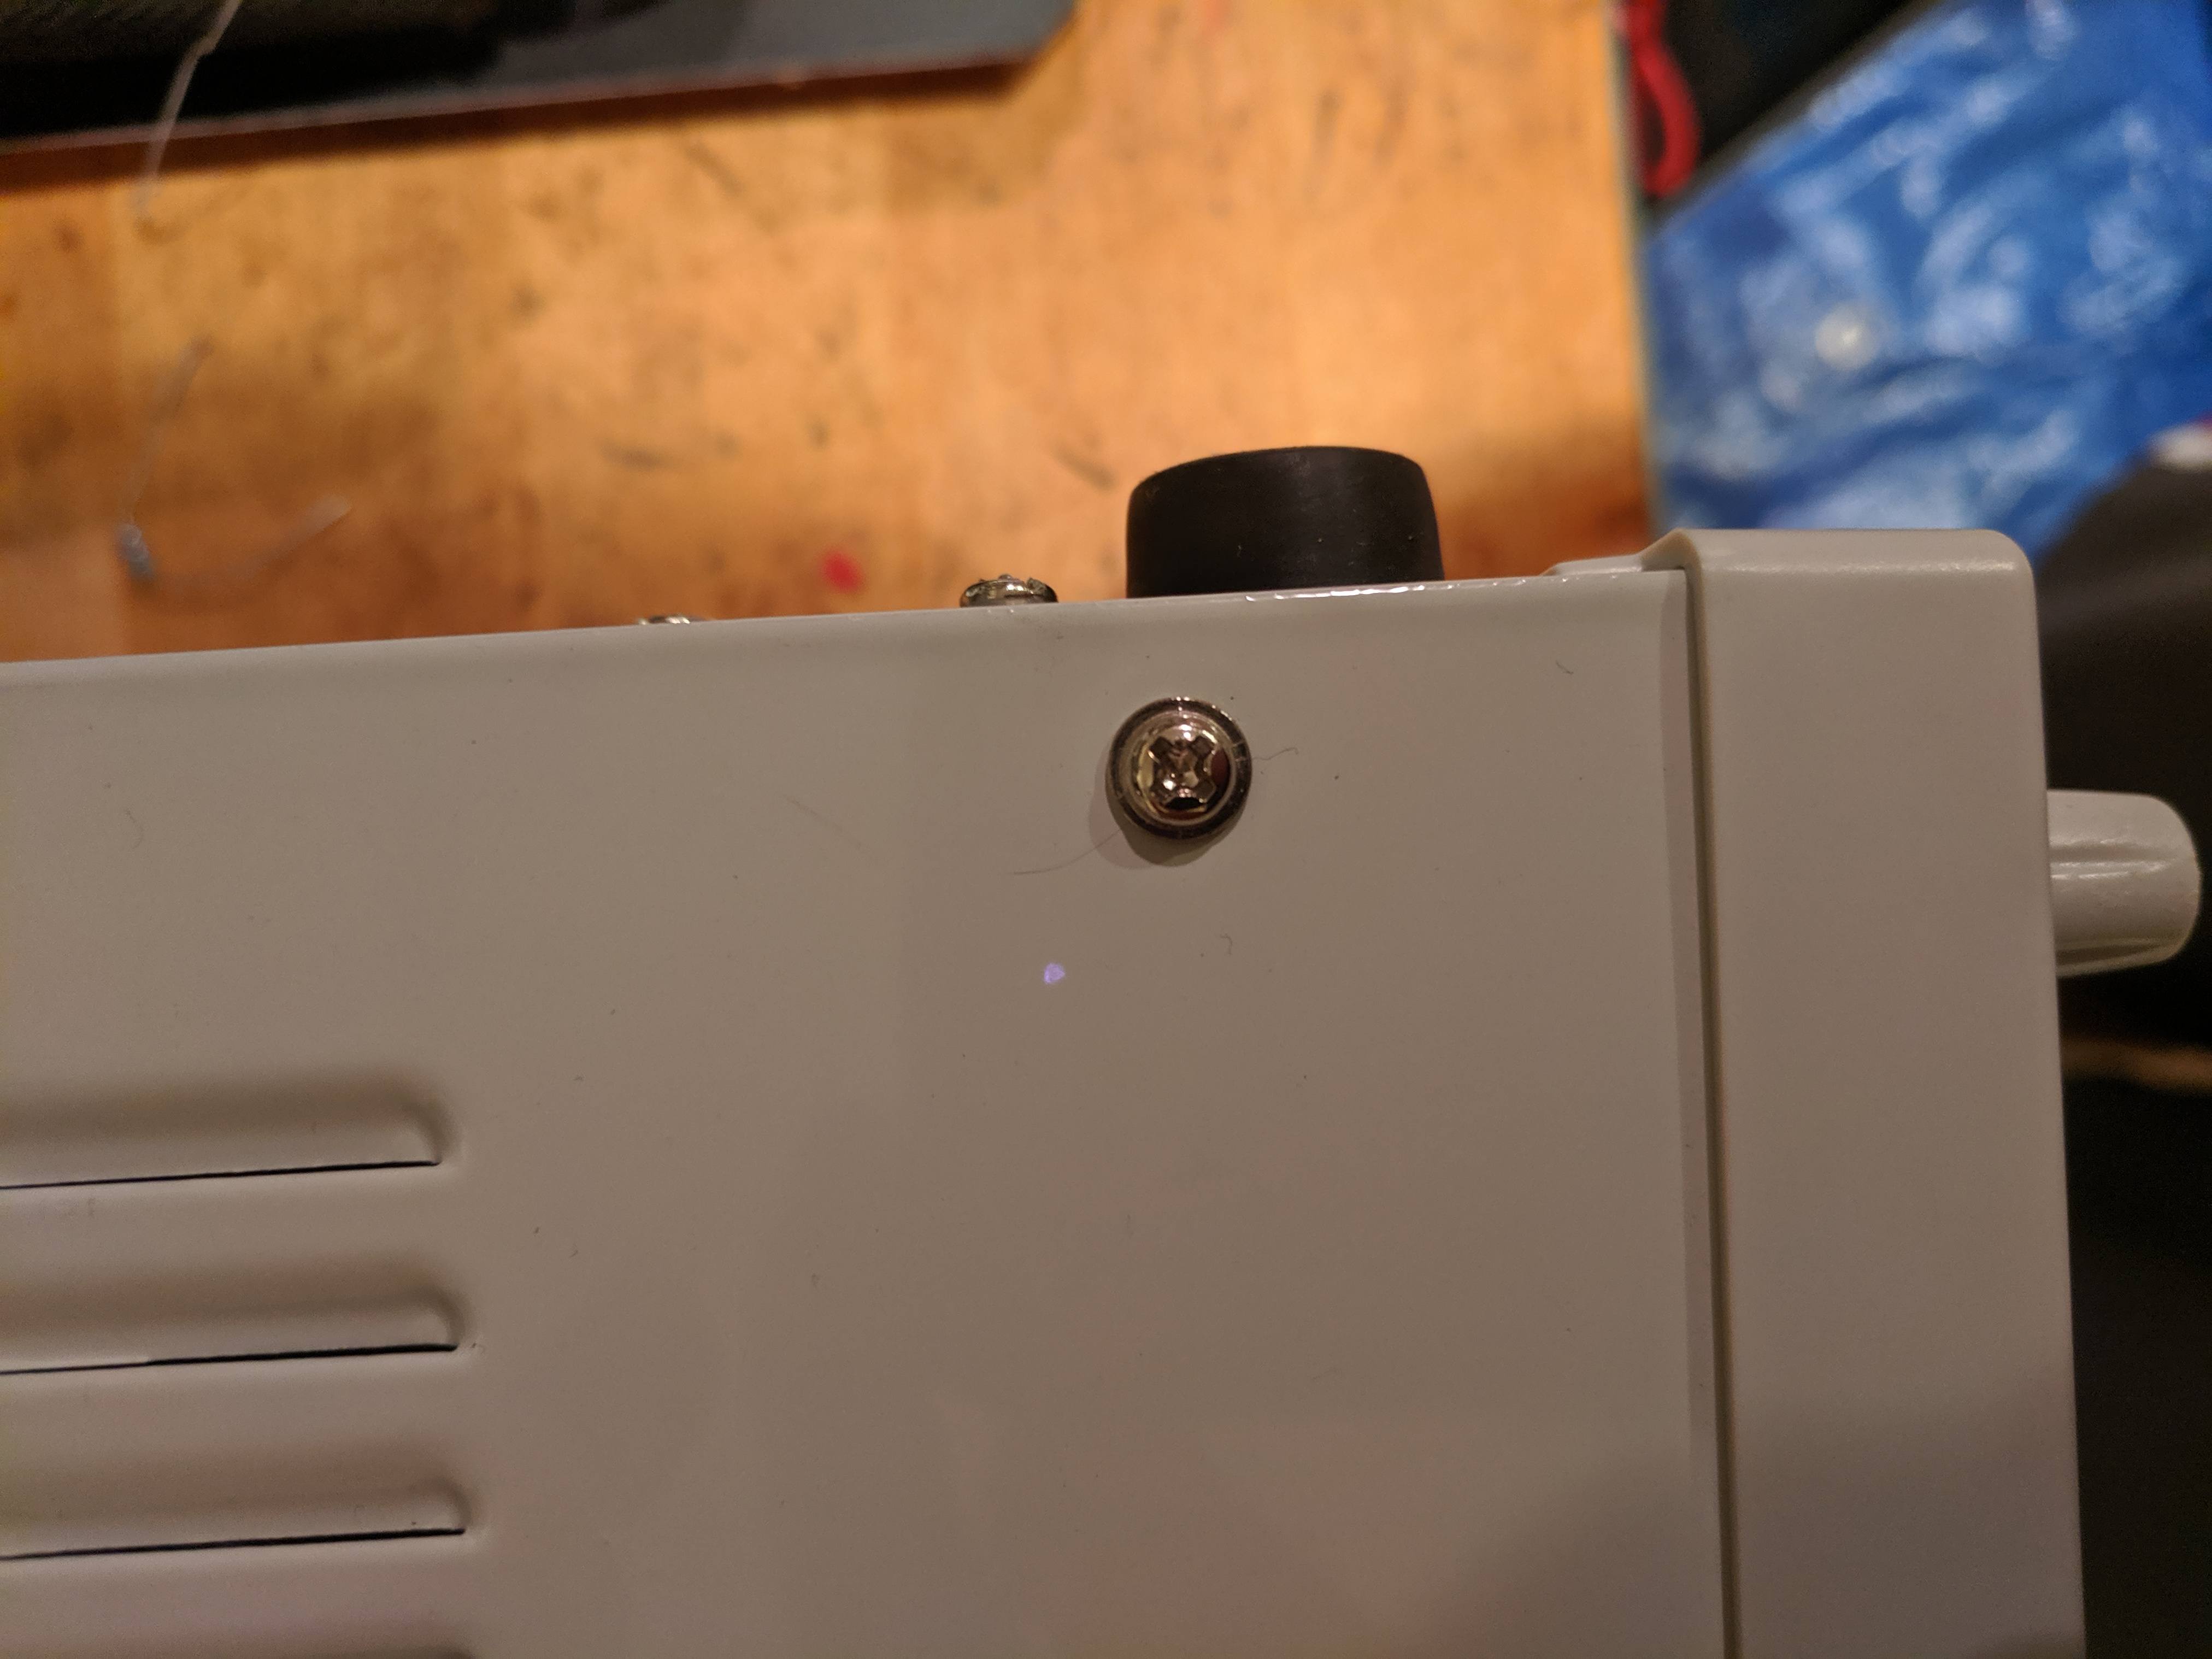cross_recessed_screw: (1120, 706, 1245, 831)
